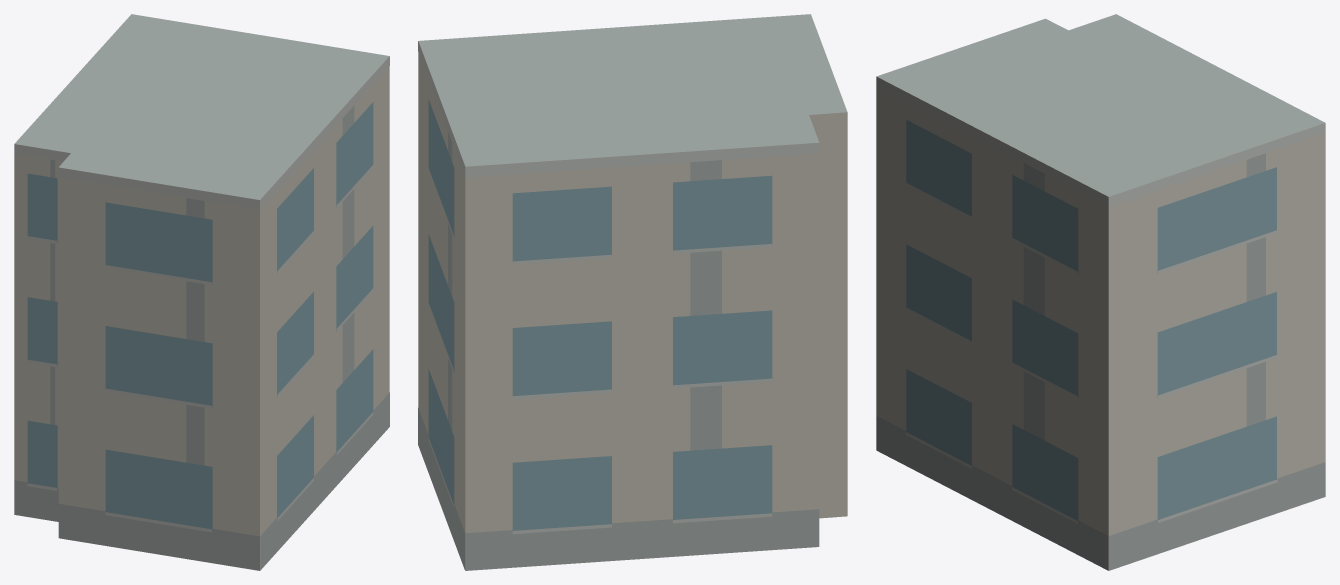
File: residential-05162f02-512d-472f-a7b3-0da7ff0929bc.glb
3 views of the same model, side by side, from view 1: azimuth 30°, elevation 25°; view 2: azimuth 150°, elevation 25°; view 3: azimuth 270°, elevation 25° (orthographic). The views are drawn at different scales.
Visible parts, largest first — view 1: residential-05162f02-512d-472f-a7b3-0da7ff0929bc.tmp; view 2: residential-05162f02-512d-472f-a7b3-0da7ff0929bc.tmp; view 3: residential-05162f02-512d-472f-a7b3-0da7ff0929bc.tmp.
Boxes of the visible parts, left/top/right/bottom form: residential-05162f02-512d-472f-a7b3-0da7ff0929bc.tmp: left=14, top=14, right=389, bottom=570; residential-05162f02-512d-472f-a7b3-0da7ff0929bc.tmp: left=418, top=14, right=847, bottom=570; residential-05162f02-512d-472f-a7b3-0da7ff0929bc.tmp: left=876, top=14, right=1325, bottom=570.
Size of the model in its own units: 9.61 by 9.15 by 9.97.
